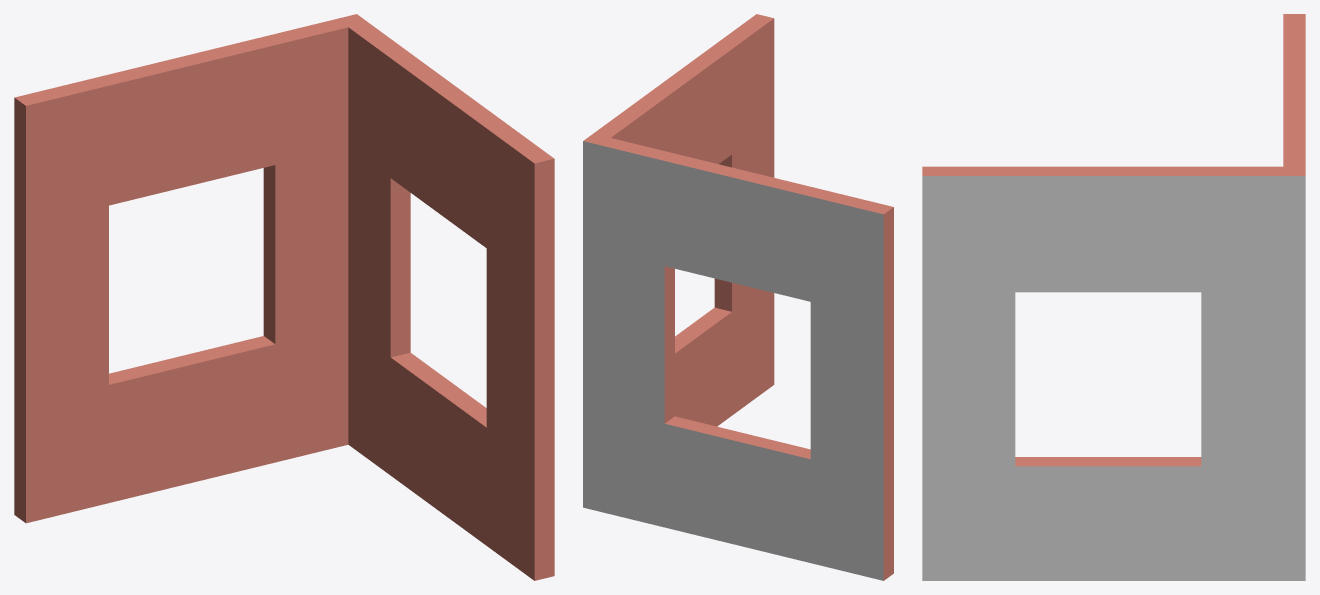
The model's file is Wall1_C6_12.fbx.
3 views of the same model, side by side, from view 1: azimuth 30°, elevation 25°; view 2: azimuth 150°, elevation 25°; view 3: azimuth 270°, elevation 25° (orthographic). The views are drawn at different scales.
Parts seen in each view (by area): view 1: Wall1_C6_12; view 2: Wall1_C6_12; view 3: Wall1_C6_12.
Boxes of the visible parts, left/top/right/bottom form: Wall1_C6_12: left=14, top=14, right=554, bottom=580; Wall1_C6_12: left=583, top=14, right=893, bottom=580; Wall1_C6_12: left=922, top=14, right=1305, bottom=580.
Bounding box in the file's own units: 258 × 300 × 258.
